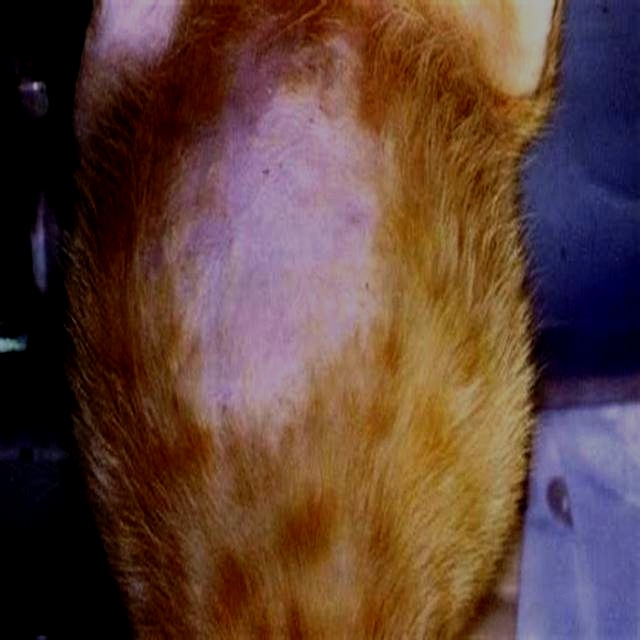hairloss: (206, 83, 375, 432)
